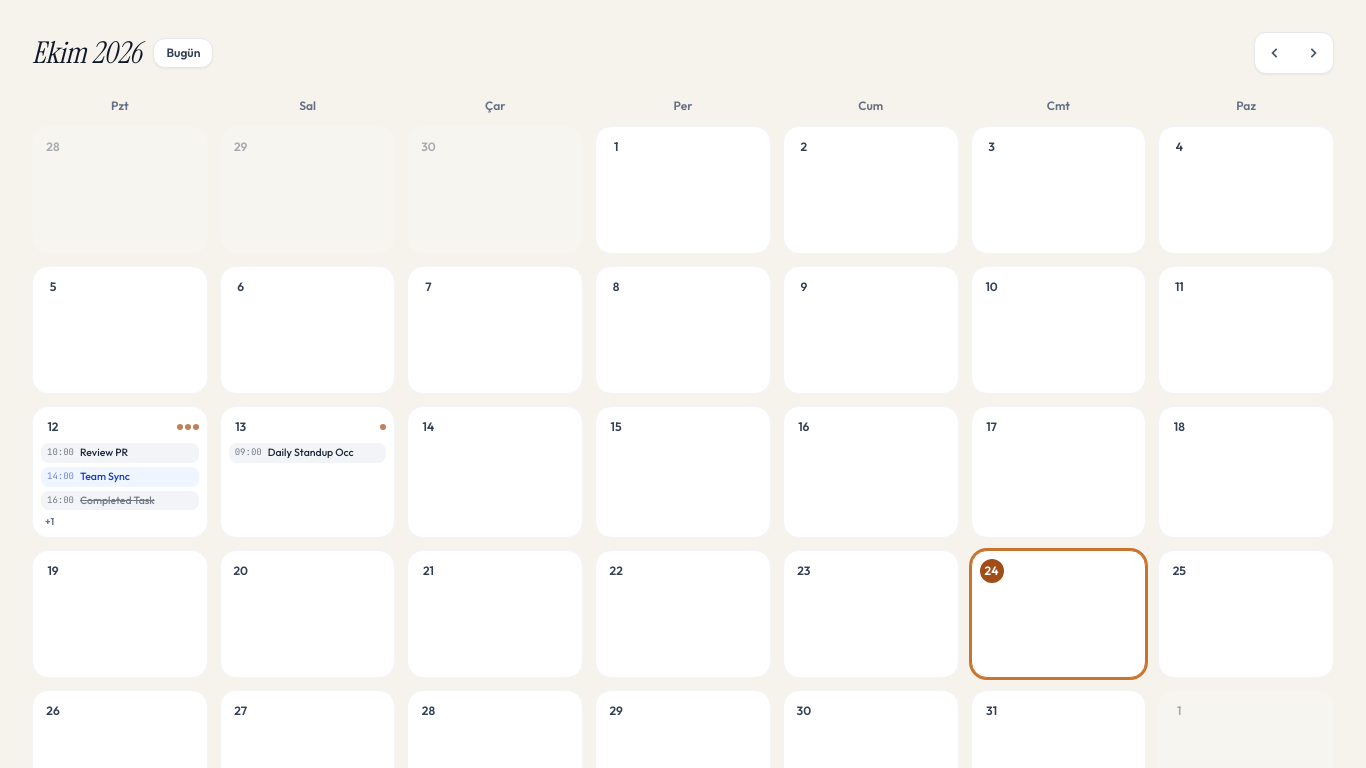
MonthPage › opens day panel on cell click and closes on Escape or close button
Click cell 2026-10-12
Click the cell with test id "cell-2026-10-12" at (120, 472), box [32, 406, 208, 538]
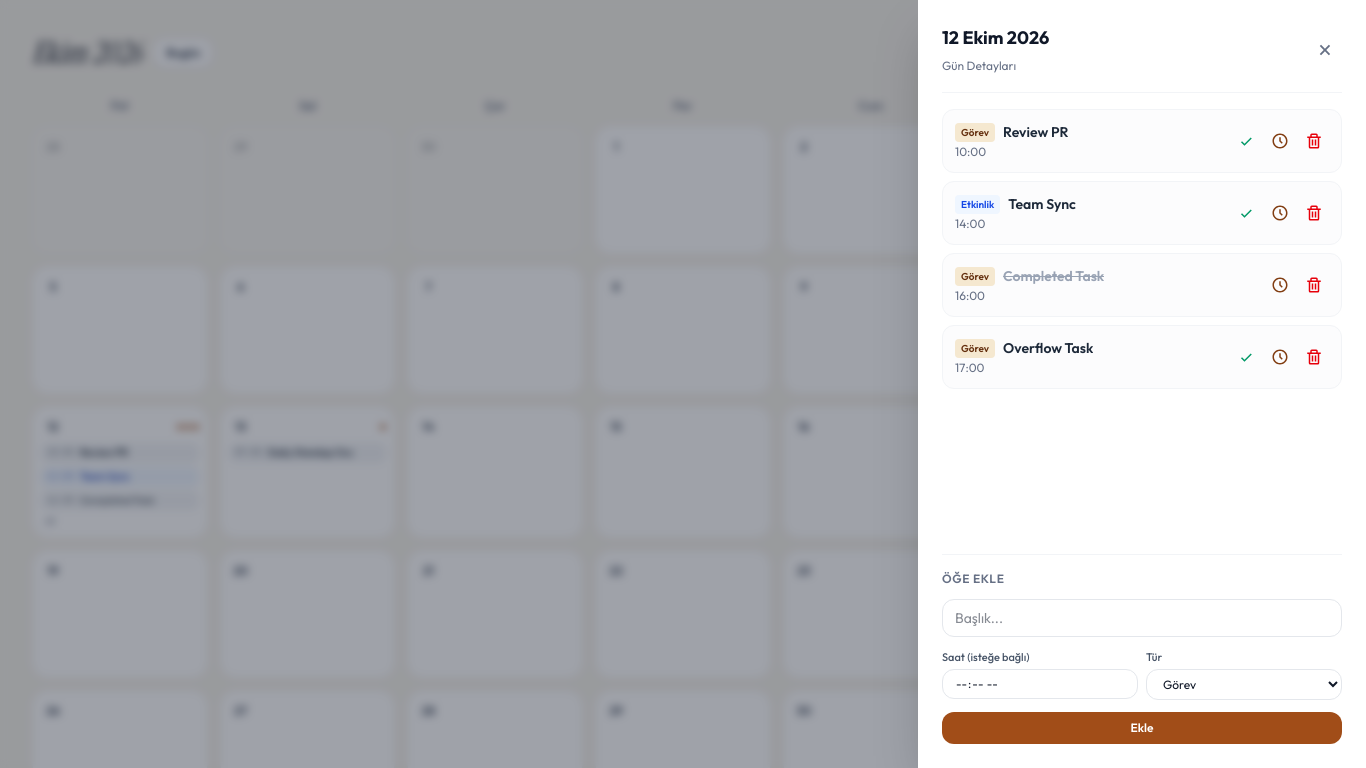
Check: the element with test id "day-panel" is shown
Check: the text "Review PR" is shown, box [1003, 122, 1068, 142]
Check: the text "Team Sync" is shown, box [1008, 194, 1076, 214]
Press Escape
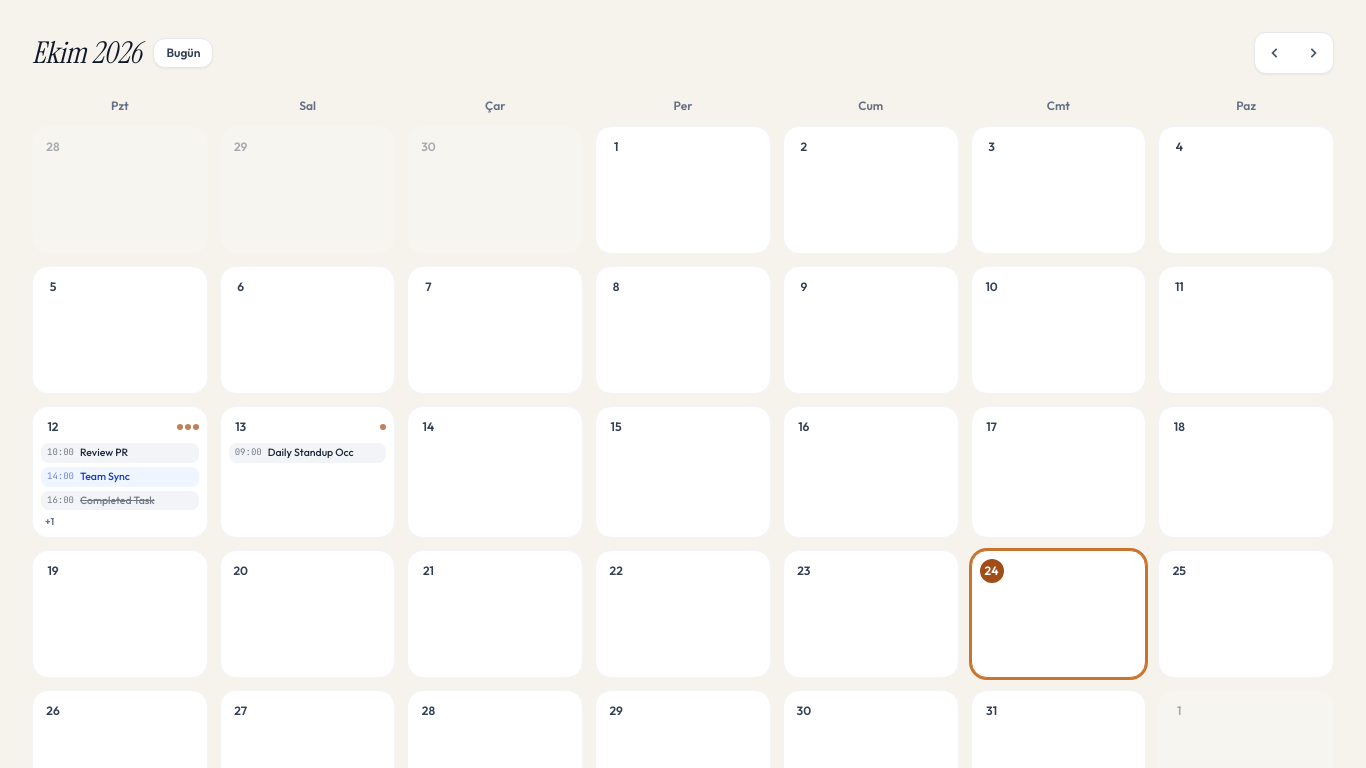
Check: the element with test id "day-panel" is gone
Click again and close via Close button
Click the cell with test id "cell-2026-10-12" at (120, 472), box [32, 406, 208, 538]
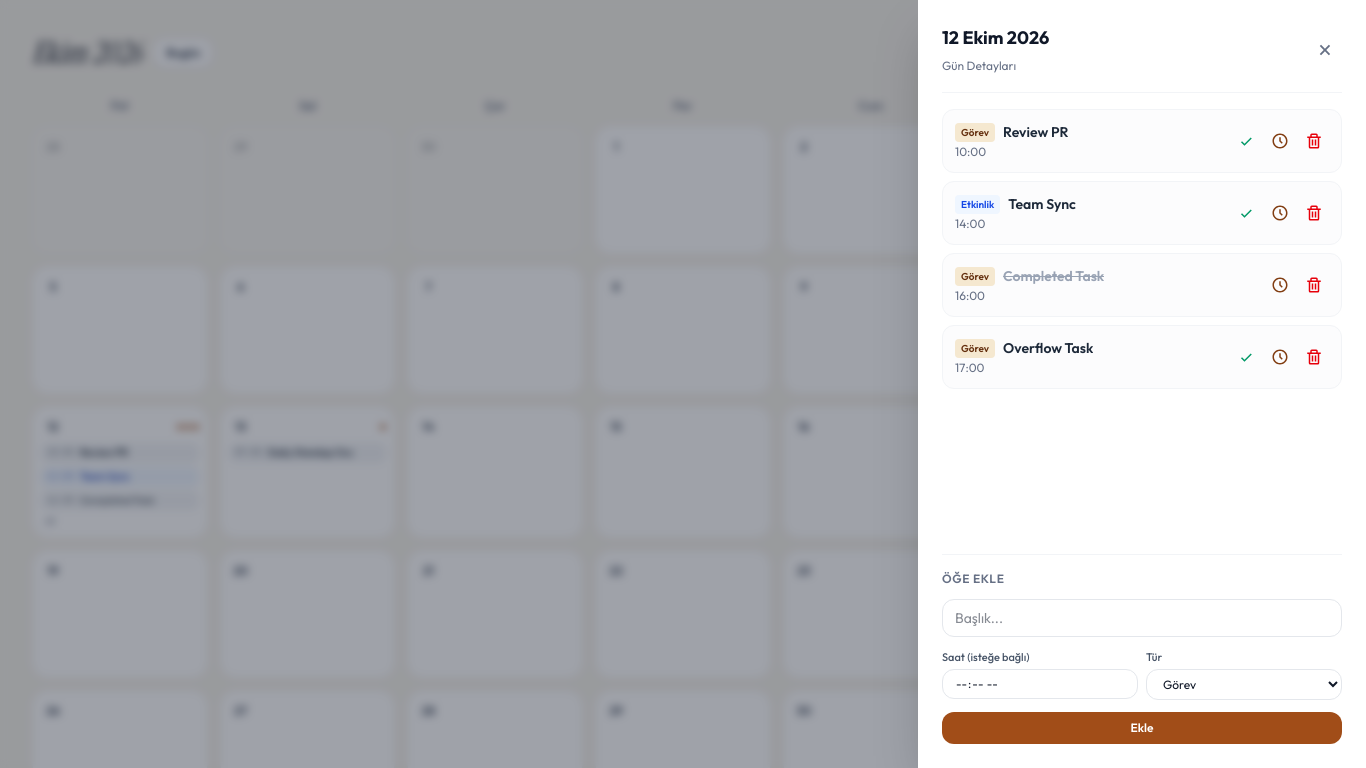
Check: the element with test id "day-panel" is shown
Click the button named "Kapat" at (1325, 50), box [1308, 33, 1342, 67]
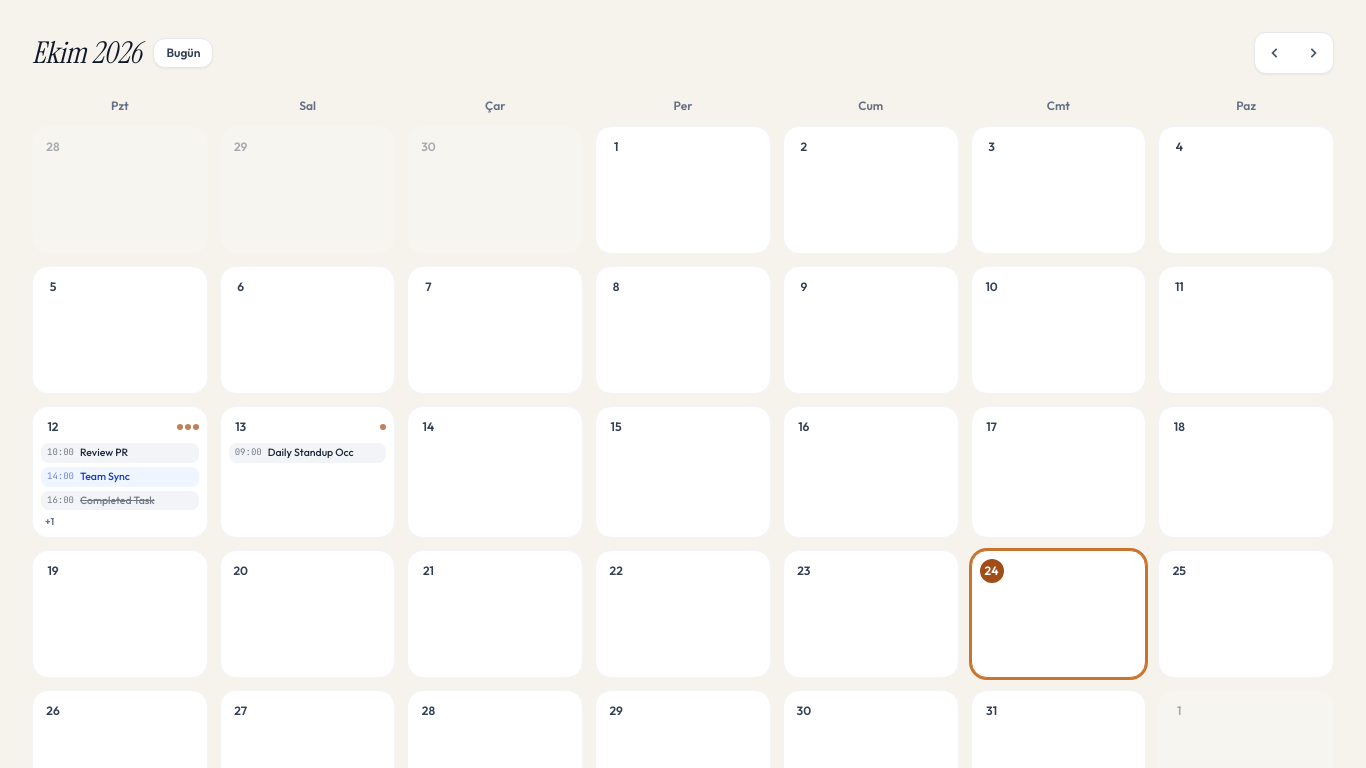
Check: the element with test id "day-panel" is gone
